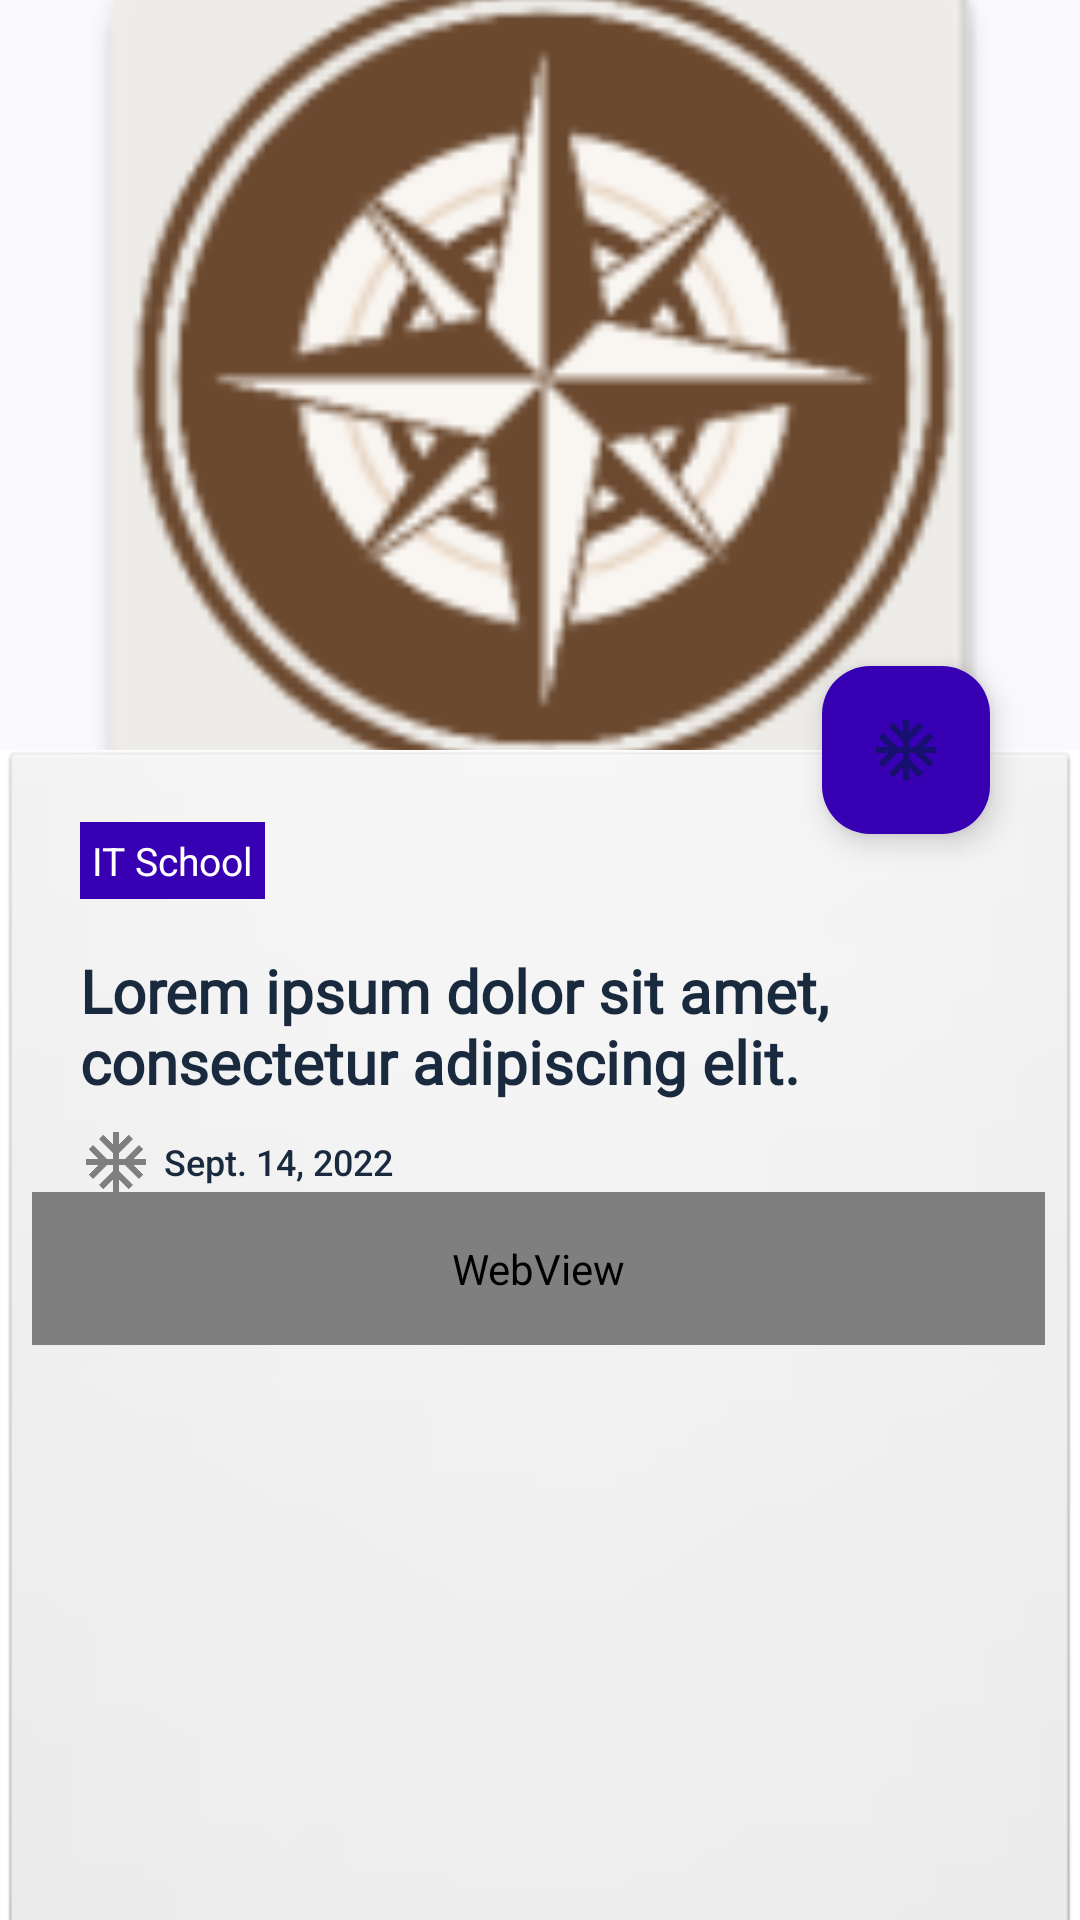

Locate icon controls on the screen. Image size 1080*1920, boxes as [x1, y1, x2, y2].
ac unit: [822, 666, 990, 834]
